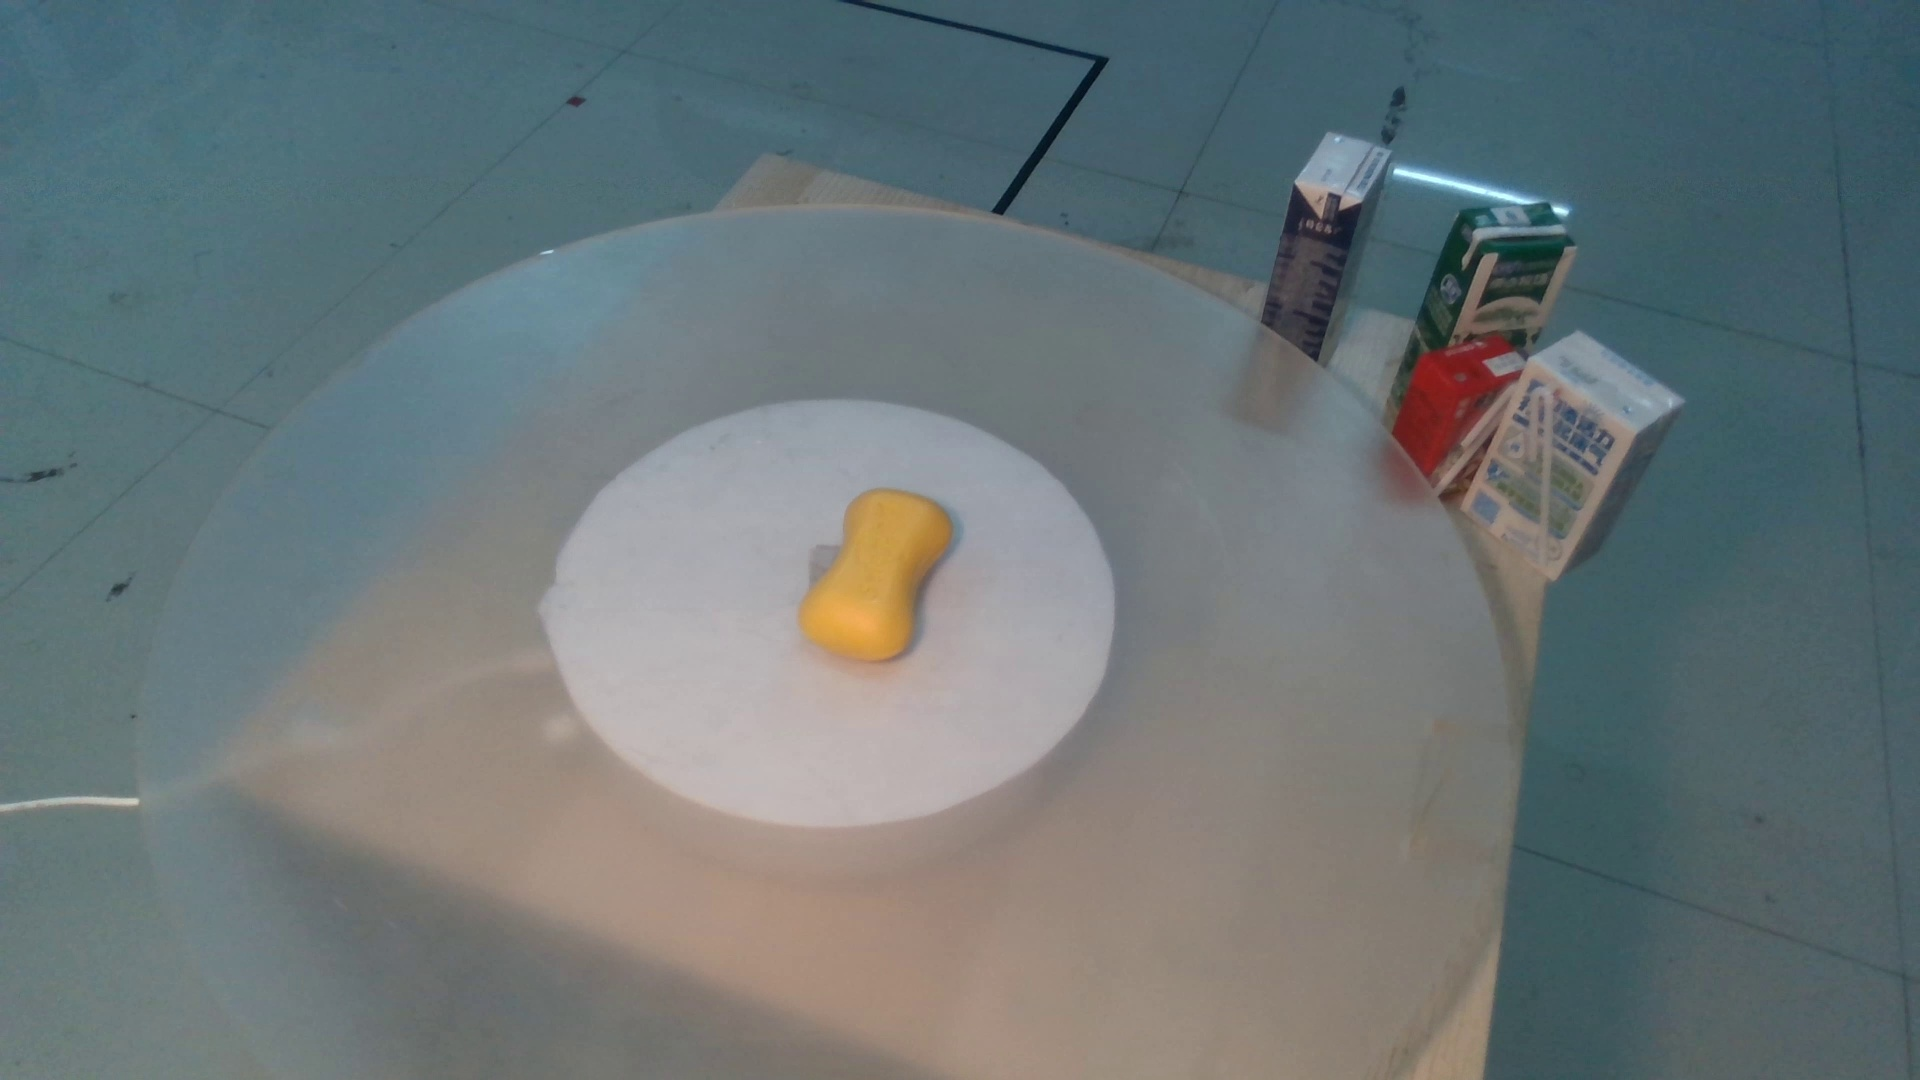CA003_1: (786, 480, 986, 638)
